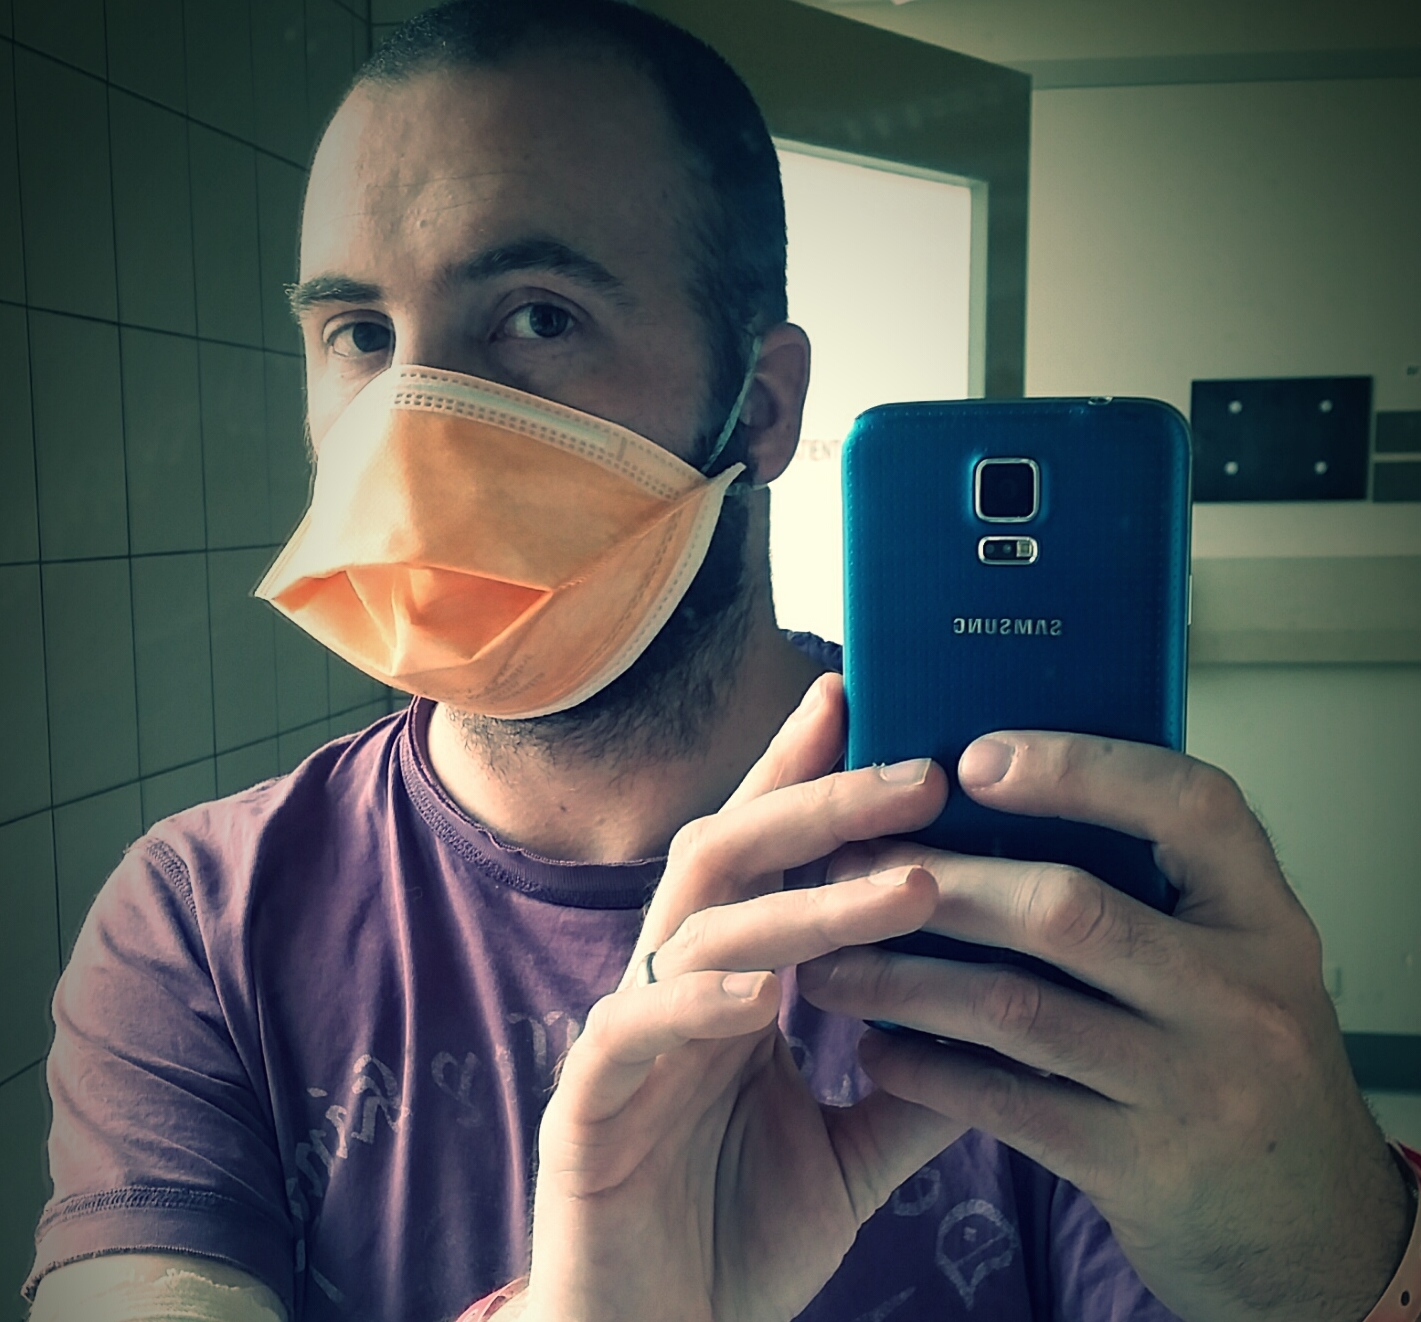n95: (227, 352, 758, 730)
